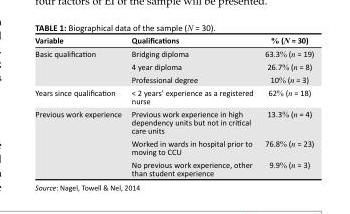table: (34, 34, 313, 177)
table column: (125, 34, 258, 177), (34, 34, 125, 177), (258, 34, 313, 177)
table column header: (34, 34, 313, 46)
table row: (34, 106, 313, 136), (34, 85, 313, 106), (34, 136, 313, 157), (34, 157, 313, 177), (34, 46, 313, 59), (34, 59, 313, 72), (34, 72, 313, 85), (34, 34, 313, 46)
table spanning cell: (34, 106, 125, 177), (34, 46, 125, 85)
